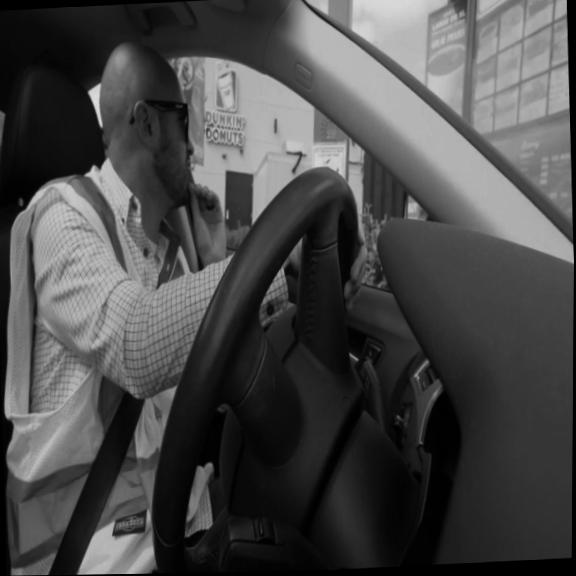safety_vest: (0, 155, 220, 576)
